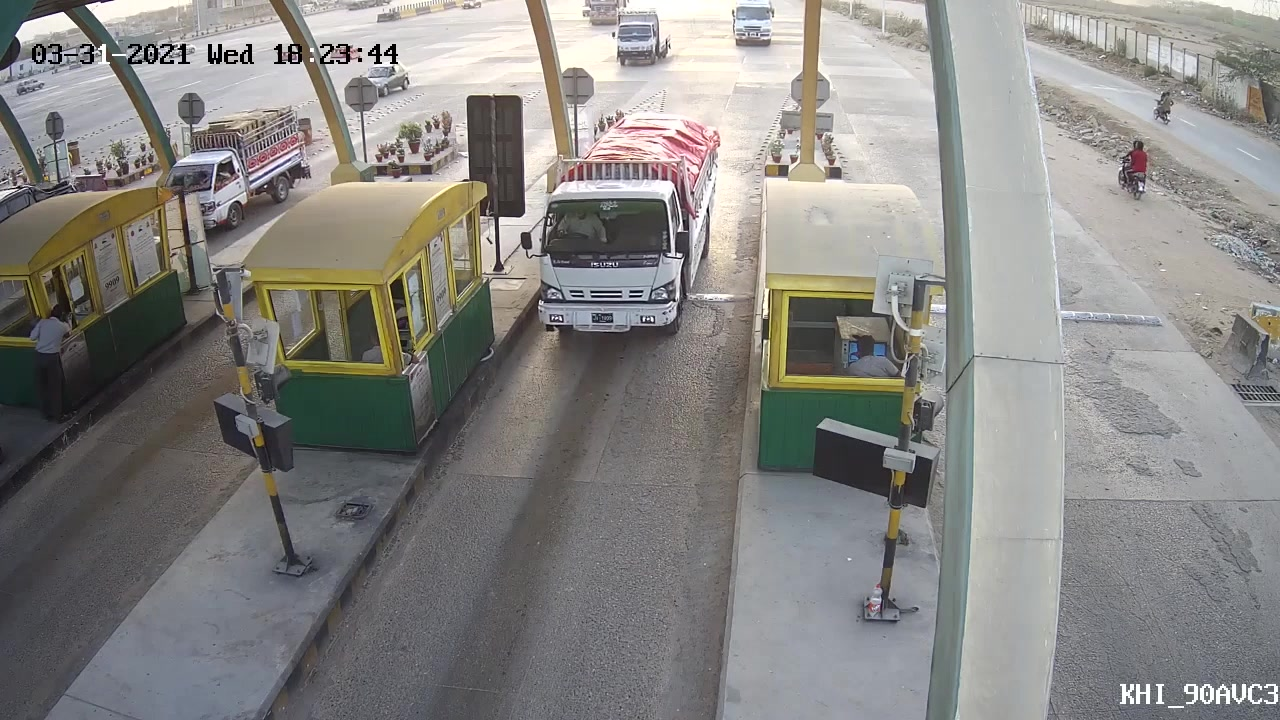F5: (530, 113, 729, 348)
